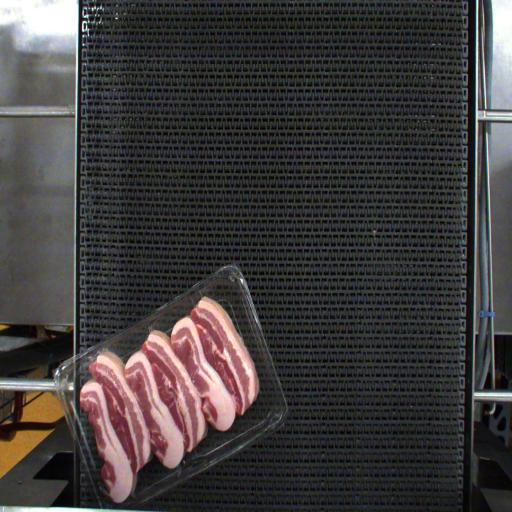packaging-error: (184, 279, 208, 310), (84, 341, 113, 362)
